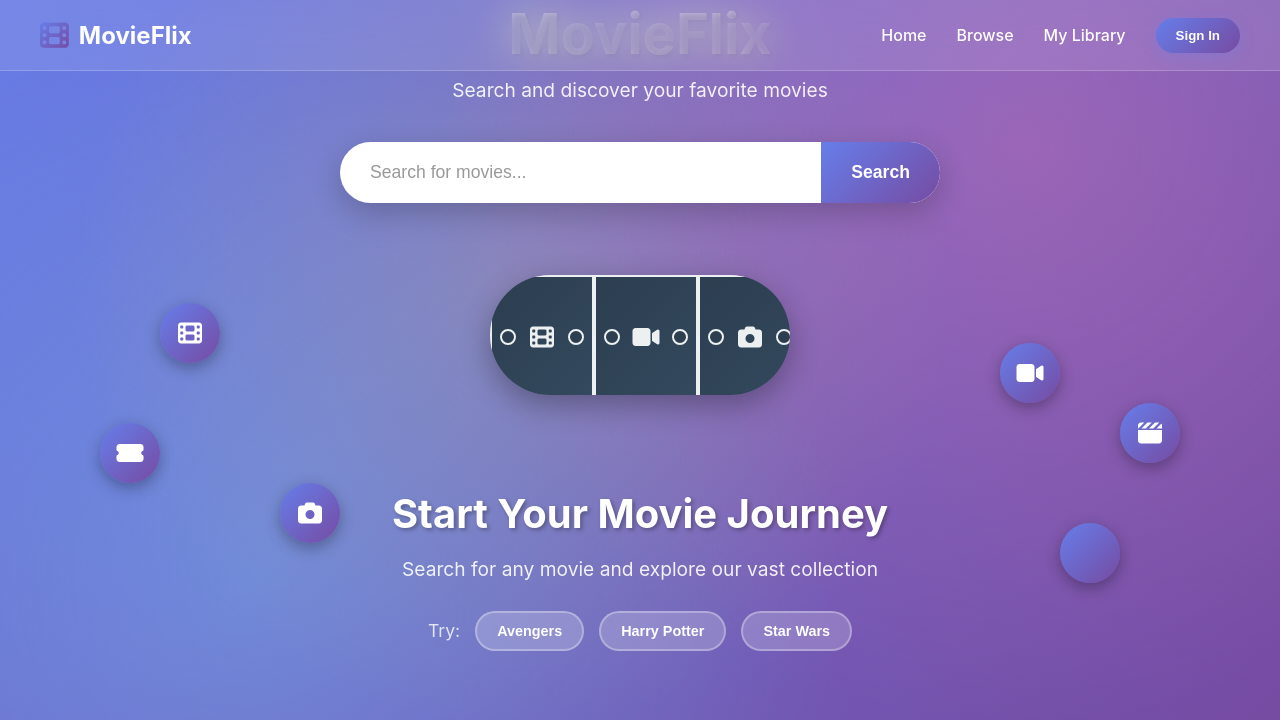
it: Home Page › example search chips › populates the input when Star Wars chip is clicked
(page scrolled)
Click the button "Star Wars" at [797, 631], box [741,611,852,651]
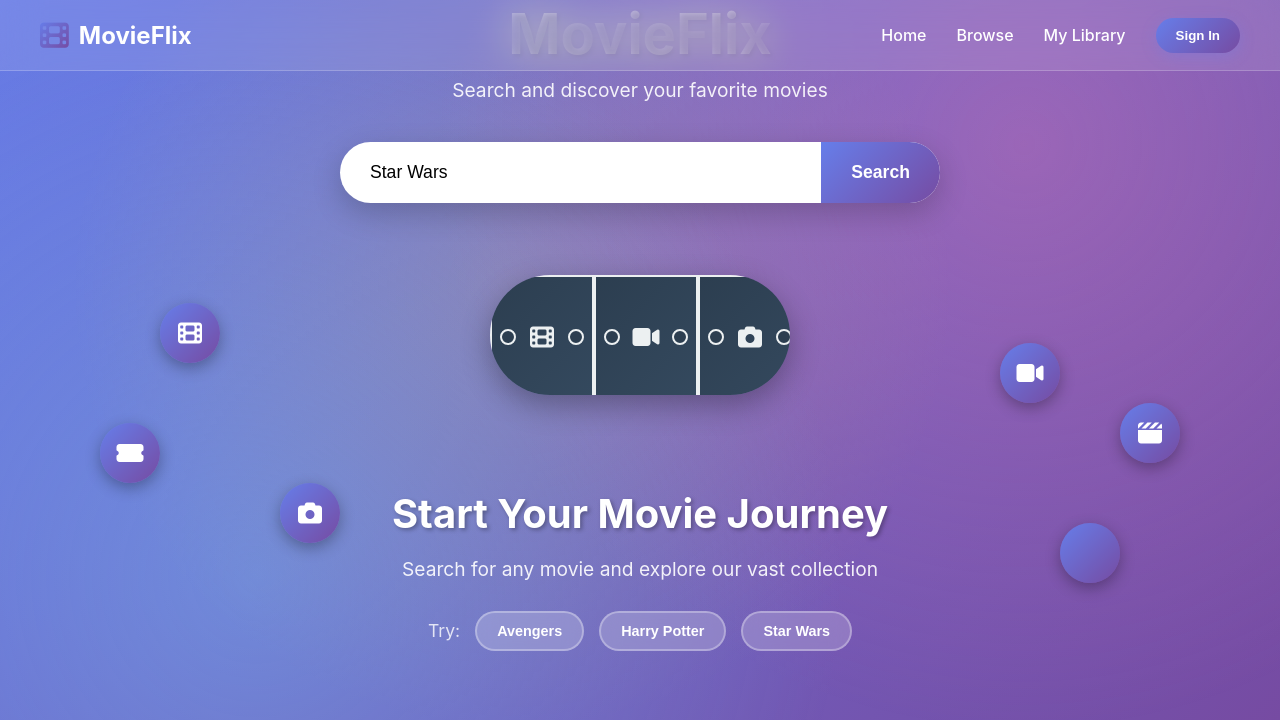
Now the field with placeholder "Search for movies..." holds "Star Wars", box [340,142,821,203]
